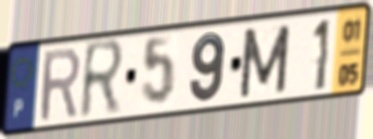1: (311, 16, 332, 93)
5: (142, 32, 179, 112)
9: (187, 28, 228, 106)
M: (237, 22, 293, 101)
R: (77, 36, 128, 125), (38, 44, 82, 126)
